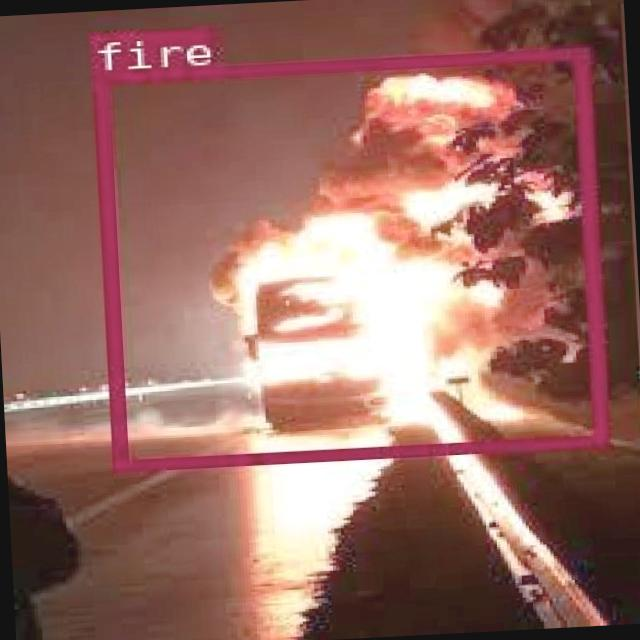fire: (92, 48, 607, 470)
